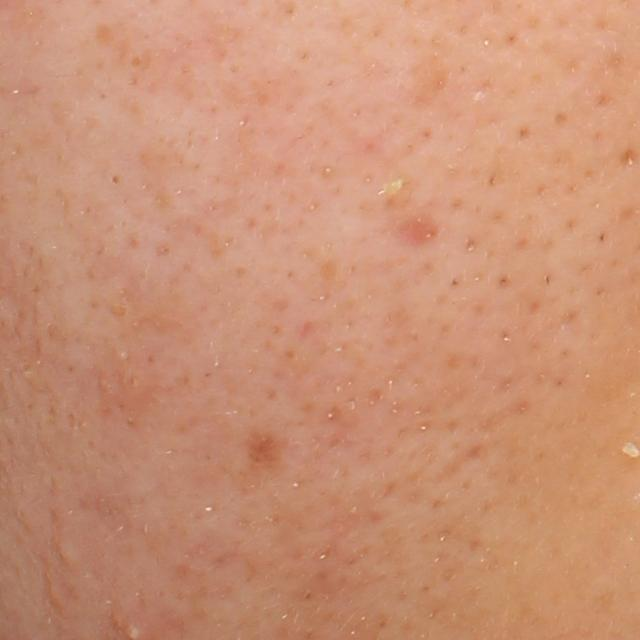atrophic_scar: (394, 217, 452, 253)
comedo: (55, 543, 83, 571), (103, 170, 123, 191)
